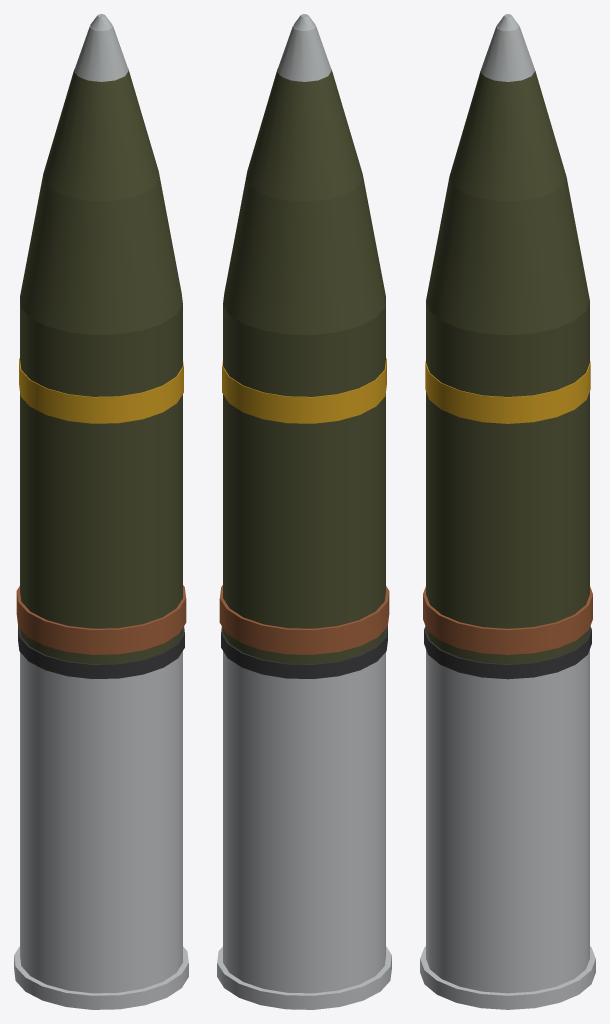
Rendered from rocket.glb.
The picture shows the model from 3 angles, left to right: view 1: azimuth 30°, elevation 25°; view 2: azimuth 150°, elevation 25°; view 3: azimuth 270°, elevation 25°; orthographic projection.
Visible parts, largest first — view 1: rocket; view 2: rocket; view 3: rocket.
Part boxes in pixels (left/top/right/bottom): rocket: left=14, top=14, right=188, bottom=1009; rocket: left=217, top=14, right=391, bottom=1009; rocket: left=420, top=14, right=595, bottom=1009.
Bounding box in the file's own units: 0.09 × 0.541 × 0.09.
Materials: 1 (1 with a texture image).
